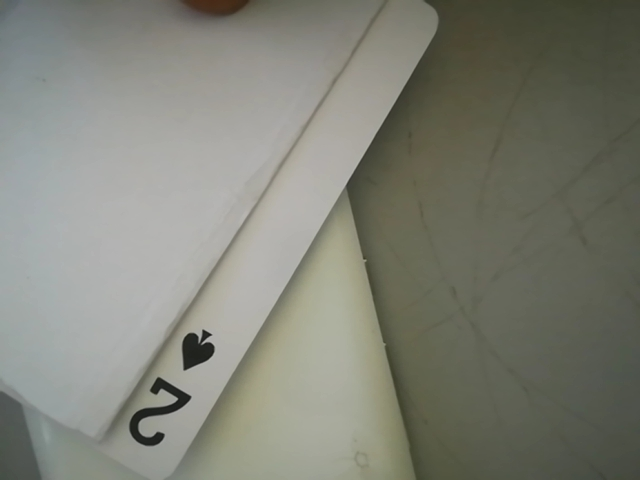ht 2: (107, 320, 233, 465)
